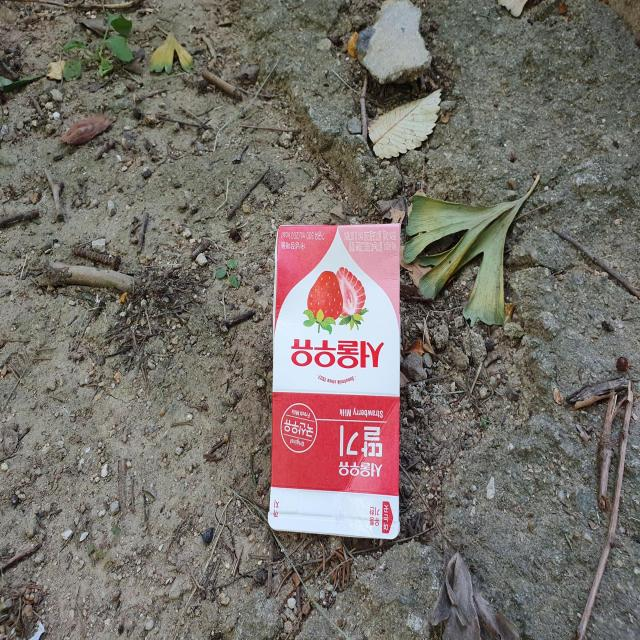paperpack: (269, 224, 401, 539)
